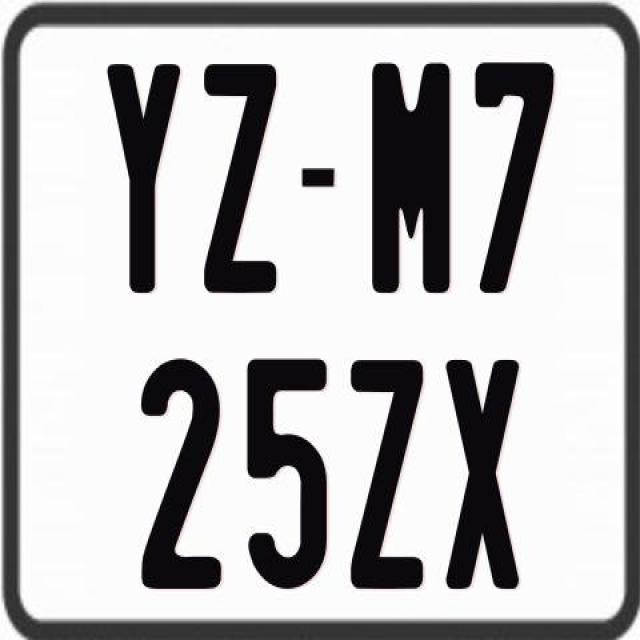2: (141, 358, 228, 592)
5: (246, 356, 328, 590)
7: (474, 61, 554, 300)
M: (369, 61, 454, 301)
X: (444, 356, 519, 594)
Y: (108, 64, 186, 293)
Z: (200, 64, 278, 298), (351, 358, 426, 597)
